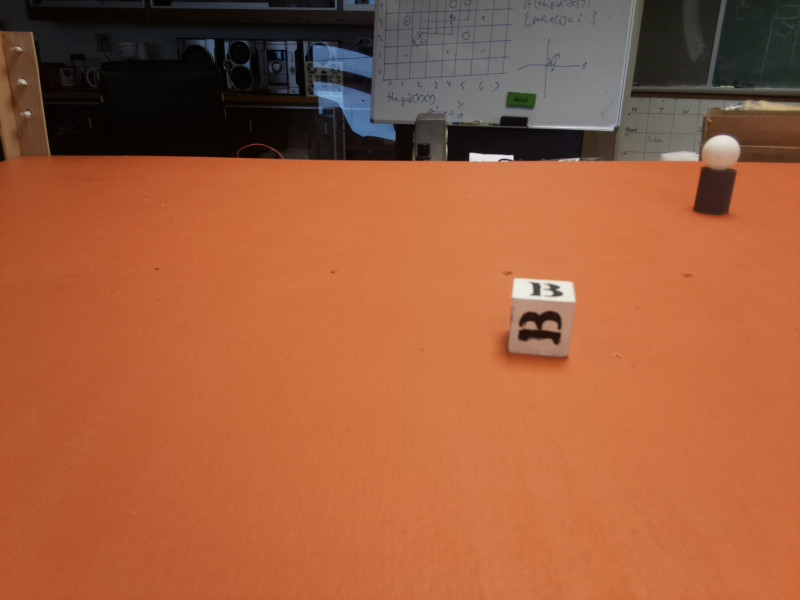blockB: (506, 275, 578, 361)
obstacle: (690, 134, 750, 216)
